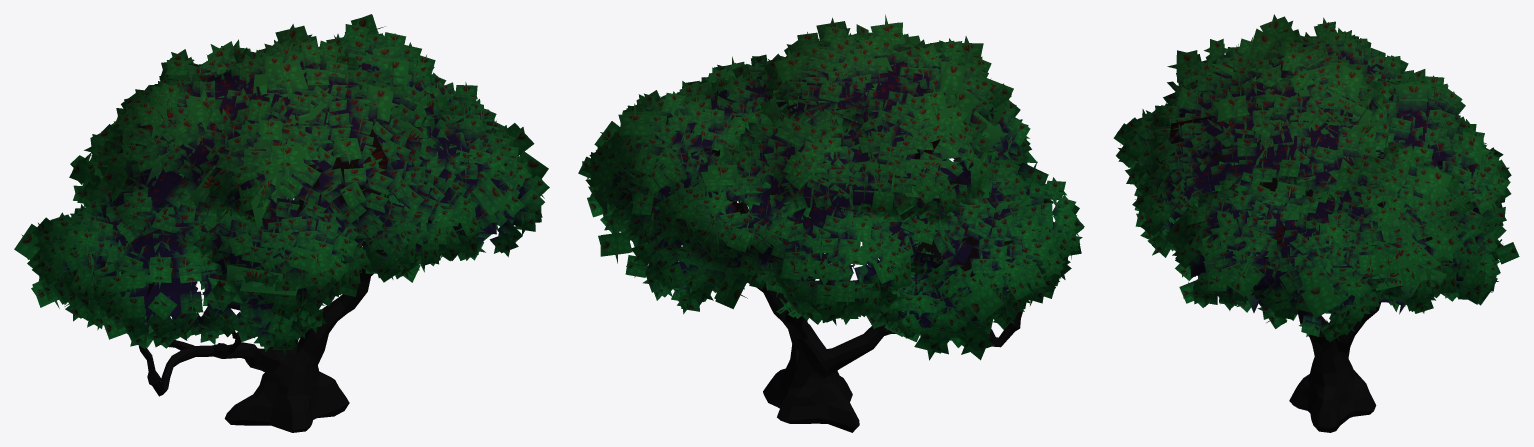
File: SM_Env_Tree_Pohutukawa_01.gltf
3 renders of one model, left to right at view 1: azimuth 30°, elevation 25°; view 2: azimuth 150°, elevation 25°; view 3: azimuth 270°, elevation 25°, orthographic. The views are drawn at different scales.
Parts seen in each view (by area): view 1: SM_Env_Tree_Pohutukawa_01_LOD0, SM_Env_Tree_Pohutukawa_01_Branches_LOD0; view 2: SM_Env_Tree_Pohutukawa_01_LOD0, SM_Env_Tree_Pohutukawa_01_Branches_LOD0; view 3: SM_Env_Tree_Pohutukawa_01_LOD0, SM_Env_Tree_Pohutukawa_01_Branches_LOD0.
Boxes of the visible parts, left/top/right/bottom form: SM_Env_Tree_Pohutukawa_01_LOD0: left=14, top=14, right=549, bottom=432; SM_Env_Tree_Pohutukawa_01_Branches_LOD0: left=91, top=90, right=443, bottom=310; SM_Env_Tree_Pohutukawa_01_LOD0: left=578, top=14, right=1084, bottom=432; SM_Env_Tree_Pohutukawa_01_Branches_LOD0: left=623, top=87, right=1013, bottom=305; SM_Env_Tree_Pohutukawa_01_LOD0: left=1113, top=14, right=1519, bottom=432; SM_Env_Tree_Pohutukawa_01_Branches_LOD0: left=1169, top=116, right=1471, bottom=285.
Size of what is drawn, in the model's own units: 9.44 by 7.33 by 7.39.
Materials: 1 (1 with a texture image).
